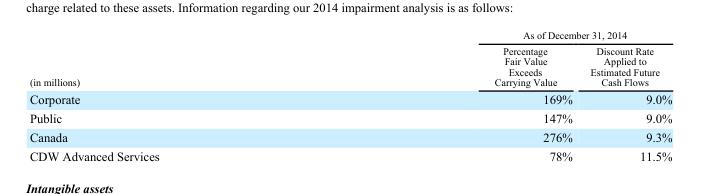table: (28, 28, 671, 162)
table column: (28, 28, 326, 162), (326, 28, 580, 162), (580, 28, 671, 162)
table column header: (28, 28, 671, 89)
table row: (28, 42, 671, 89), (28, 89, 671, 108), (28, 108, 671, 127), (28, 127, 671, 146), (28, 146, 671, 162), (28, 28, 671, 42)
table spanning cell: (28, 28, 326, 89), (326, 28, 671, 42)
